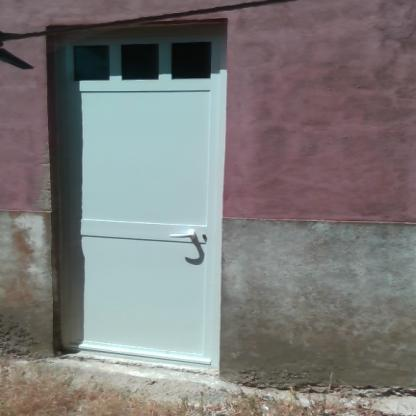door: (57, 36, 213, 377)
lever: (164, 231, 198, 238)
